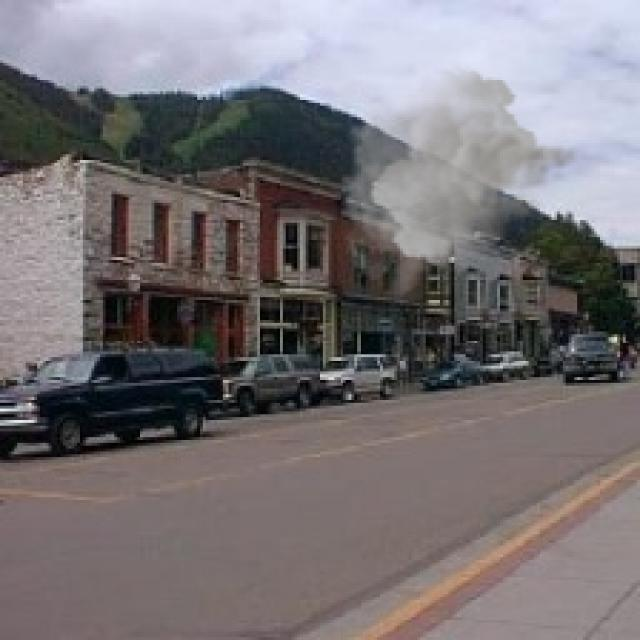smoke: (337, 66, 586, 300)
